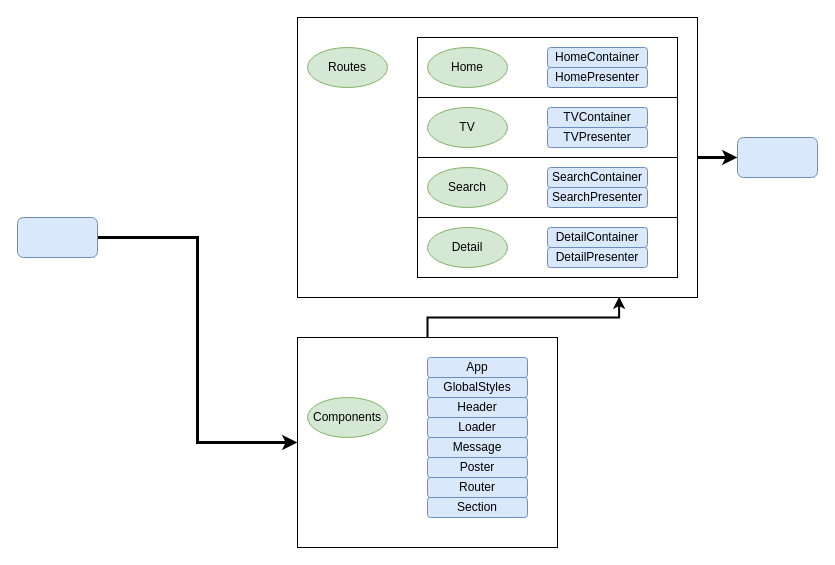
Some shapes in this 835 by 565 pixel diagram are drawn without their labels. The box of each missing label's shape, as (x1, y1, x2, y2) in pixels:
api: (736, 136, 818, 178)
index: (16, 216, 98, 258)
